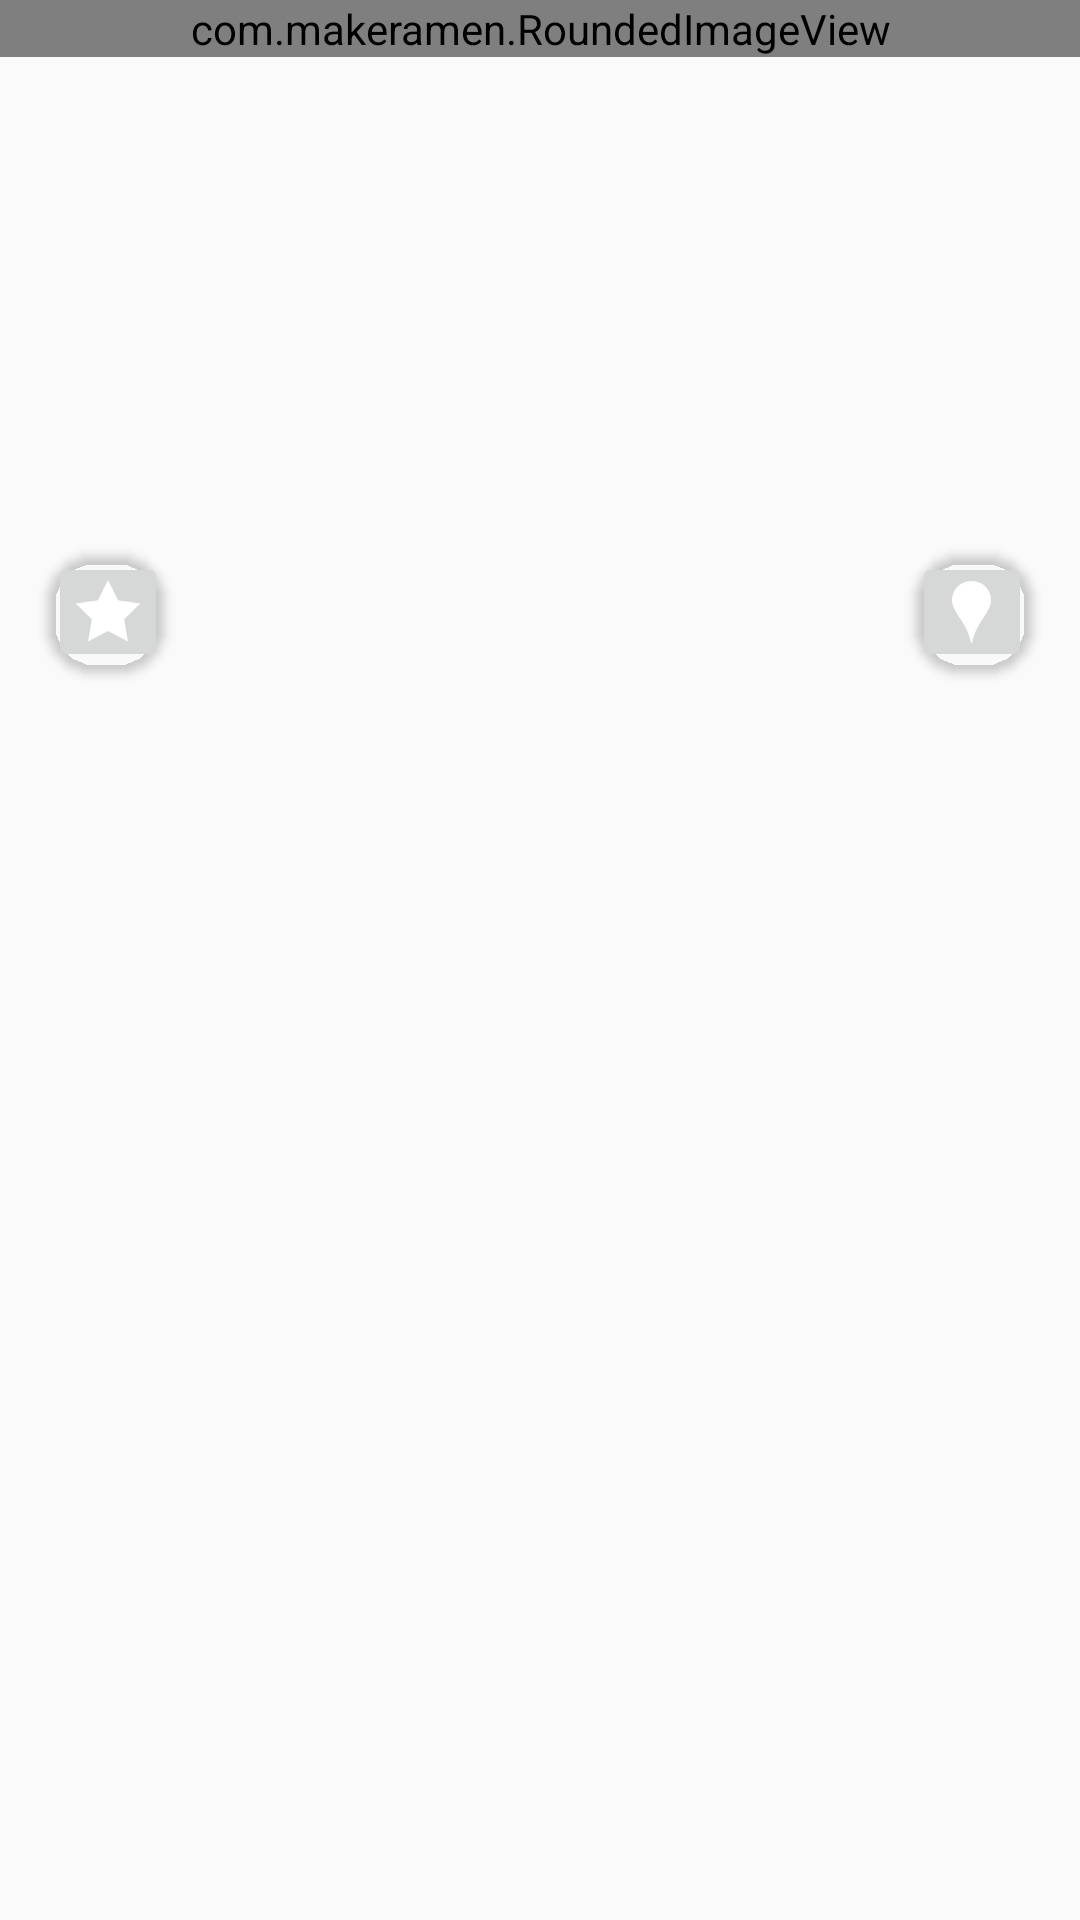

Icons on this 1080x1920 Android screen, each with the point to tap as (x=x, y=y):
star: (x=106, y=614)
